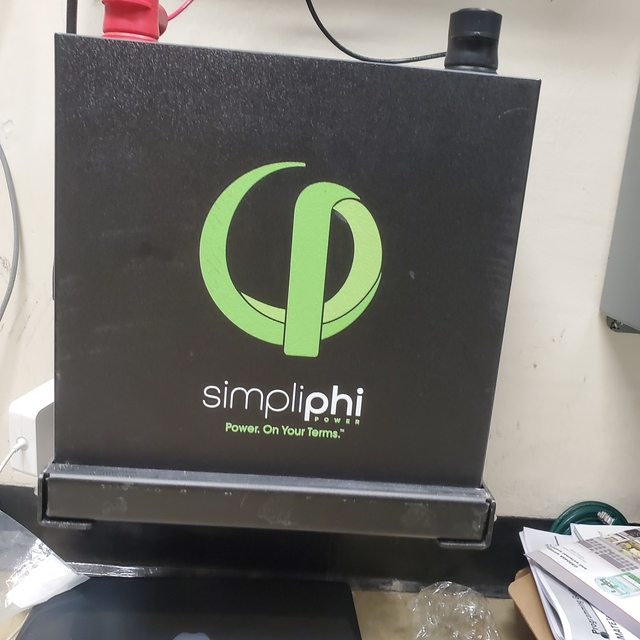battery: (52, 1, 542, 558)
